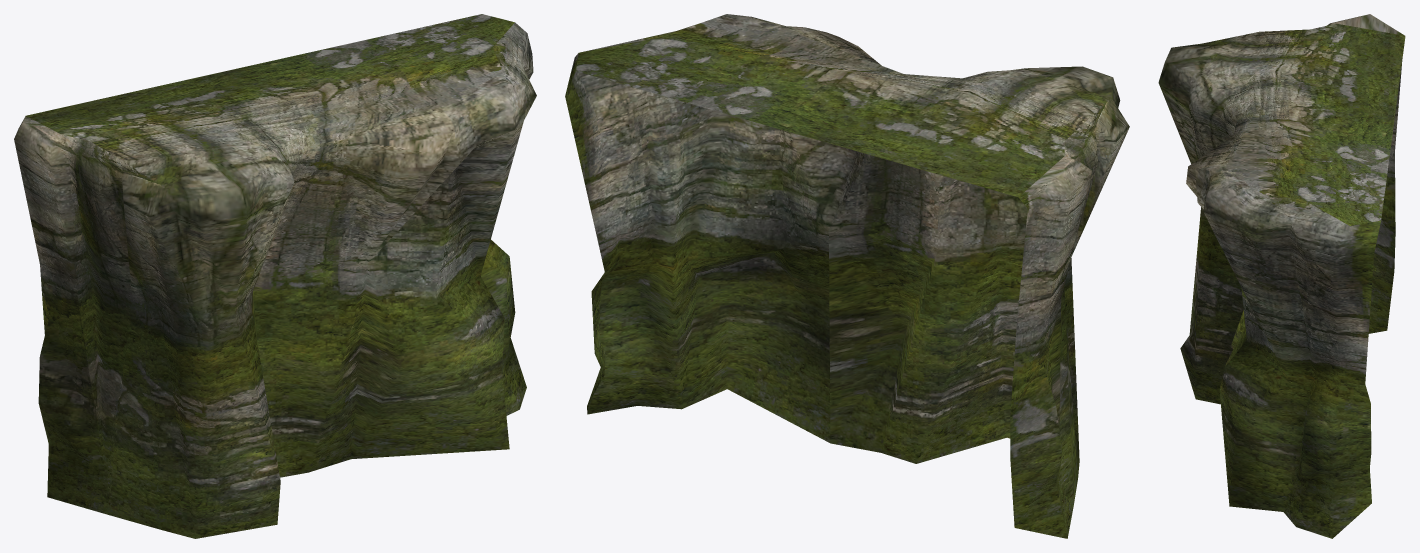
Rendered from Maincity03_Stone_09_LOD2.FBX.
3 renders of one model, left to right at view 1: azimuth 30°, elevation 25°; view 2: azimuth 150°, elevation 25°; view 3: azimuth 270°, elevation 25°, orthographic. The views are drawn at different scales.
Parts seen in each view (by area): view 1: hyc_xinshanshi04_LOD2; view 2: hyc_xinshanshi04_LOD2; view 3: hyc_xinshanshi04_LOD2.
Part boxes in pixels (left/top/right/bottom): hyc_xinshanshi04_LOD2: left=14, top=14, right=536, bottom=538; hyc_xinshanshi04_LOD2: left=565, top=14, right=1129, bottom=538; hyc_xinshanshi04_LOD2: left=1158, top=14, right=1405, bottom=538.
Size of the model in its own units: 1545 by 1101 by 762.
